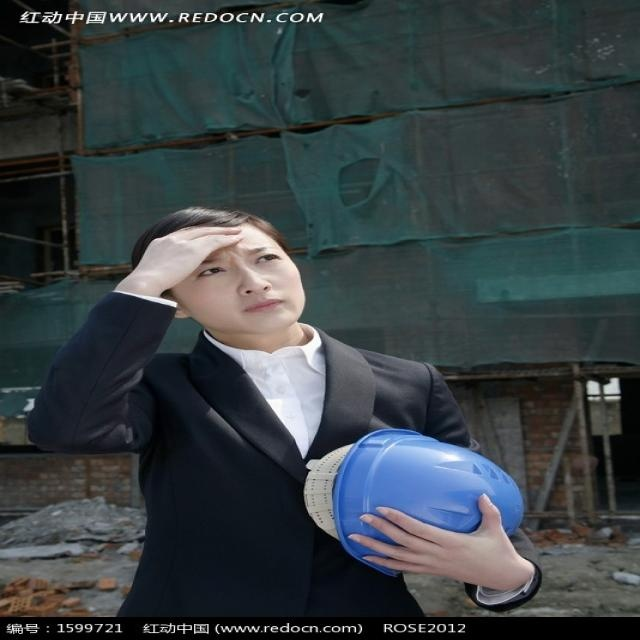Sin_Casco_Mascarrilla: (134, 207, 307, 335)
